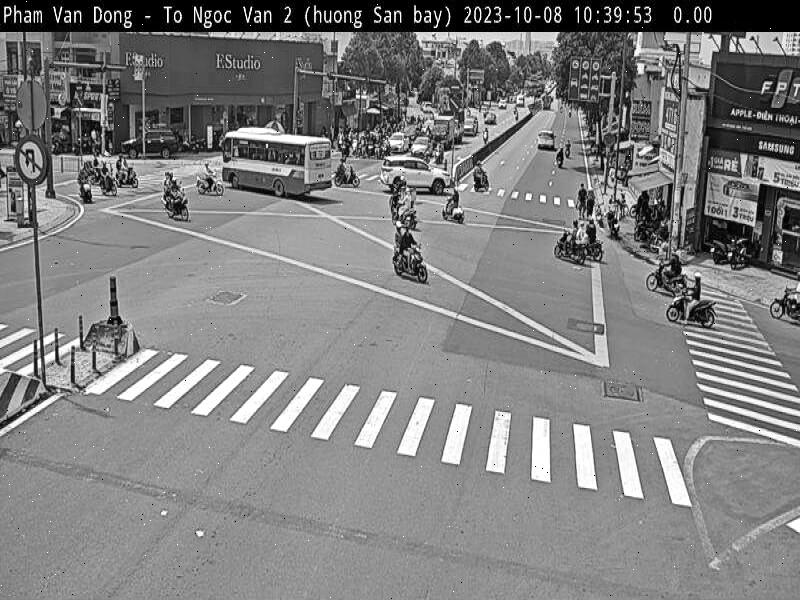bus: (221, 127, 332, 198)
car: (381, 155, 450, 196), (538, 130, 556, 150)
motorcycle: (665, 292, 716, 323), (393, 241, 428, 283)
truck: (432, 116, 454, 148)
